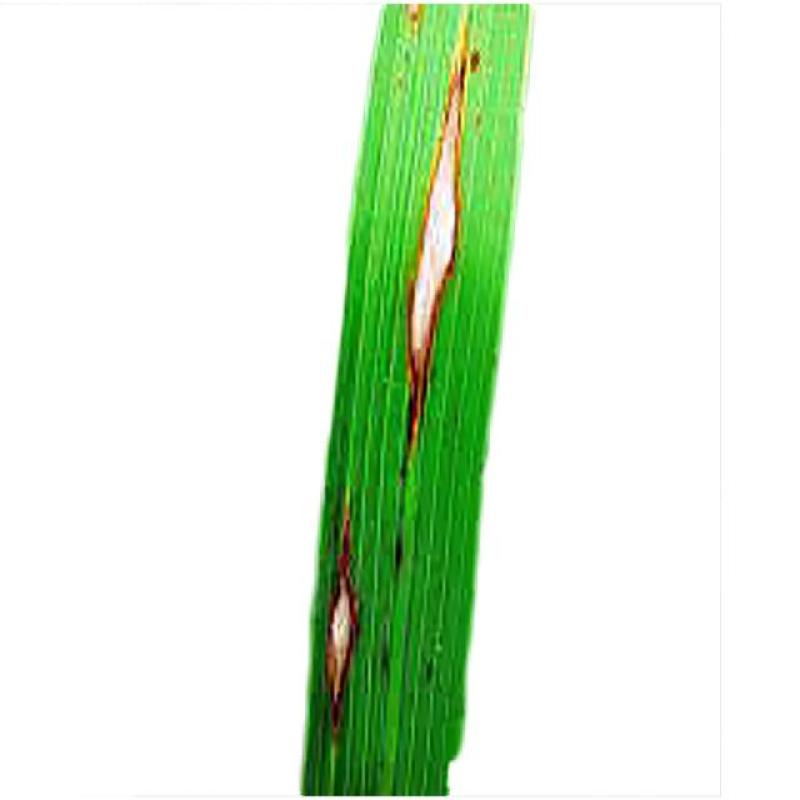Leaf_Blast: (397, 15, 506, 479), (300, 503, 396, 748)
